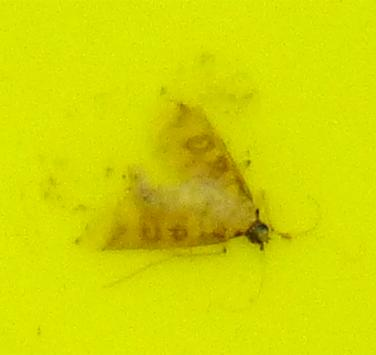Lepidoptera: (100, 100, 276, 255)
